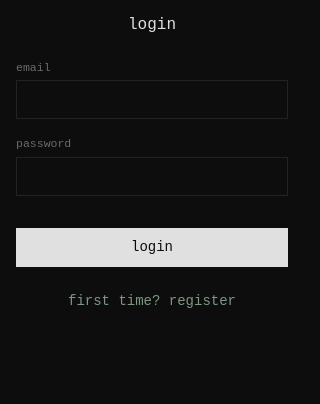
Frontend Component Tests › Login Page › toggles to register mode on click
Click the button "first time? register": (152, 301) [68, 290, 236, 312]
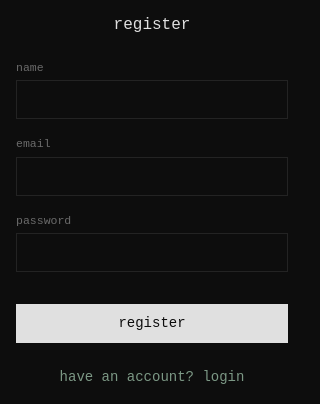
Check: the heading "register" is shown, box [114, 16, 190, 34]
Check: the button "have an account? login" is shown, box [60, 367, 244, 388]
